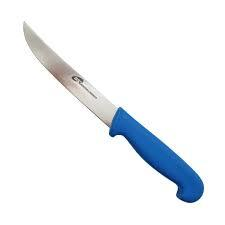Knife: (22, 19, 204, 203)
